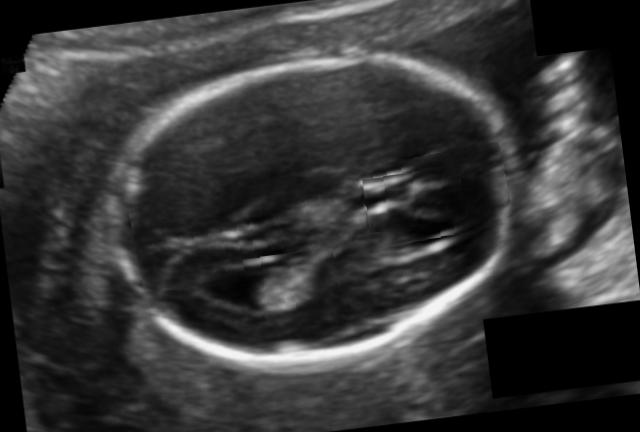CHOROID_PLEXUS: (244, 247, 342, 323)
CSP: (362, 166, 466, 234)
MIDLINE_FALX: (126, 147, 514, 288)
